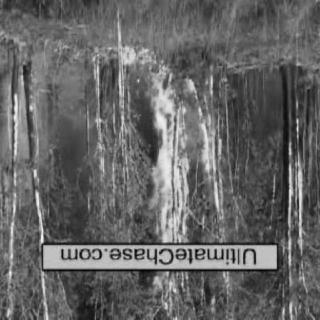Fire: (87, 47, 205, 315)
